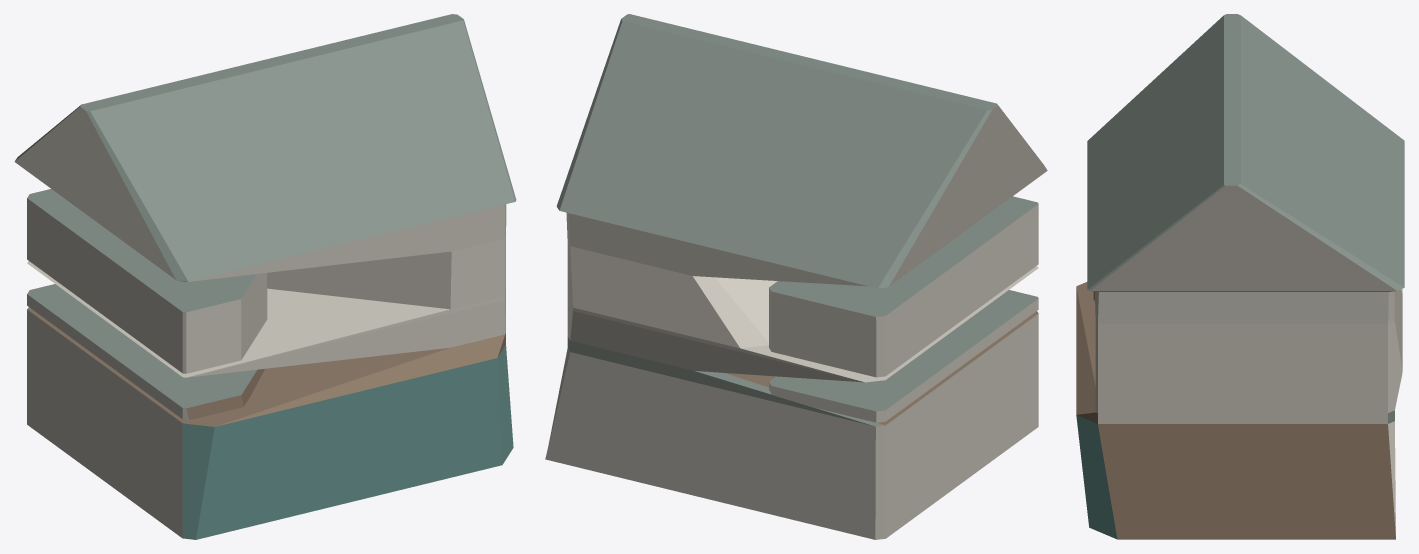
Rendered from loin.glb.
3 views of the same model, side by side, from view 1: azimuth 30°, elevation 25°; view 2: azimuth 150°, elevation 25°; view 3: azimuth 270°, elevation 25° (orthographic). The views are drawn at different scales.
Visible parts, largest first — view 1: loin; view 2: loin; view 3: loin.
Part boxes in pixels (x1,y1,x2,y2): loin: [14, 14, 516, 539]; loin: [545, 14, 1047, 539]; loin: [1076, 14, 1404, 539].
Bounding box in the file's own units: 0.8828 × 0.8582 × 0.7139.
